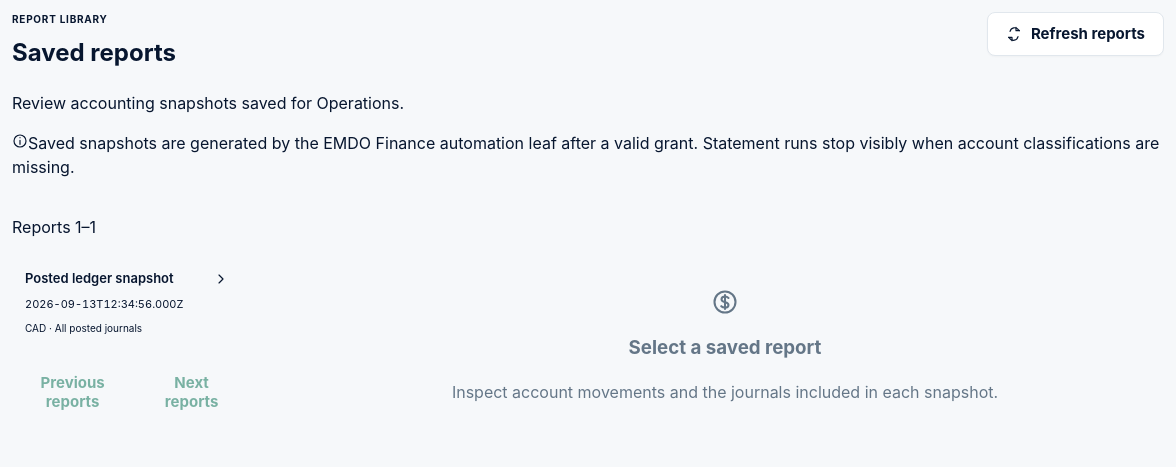
Test case: Saved accounting report library › rejects a report with invalid book provenance or accounting integrity
Click the button "Posted ledger snapshot".
click(127, 302)  # box left=12, top=255, right=242, bottom=350
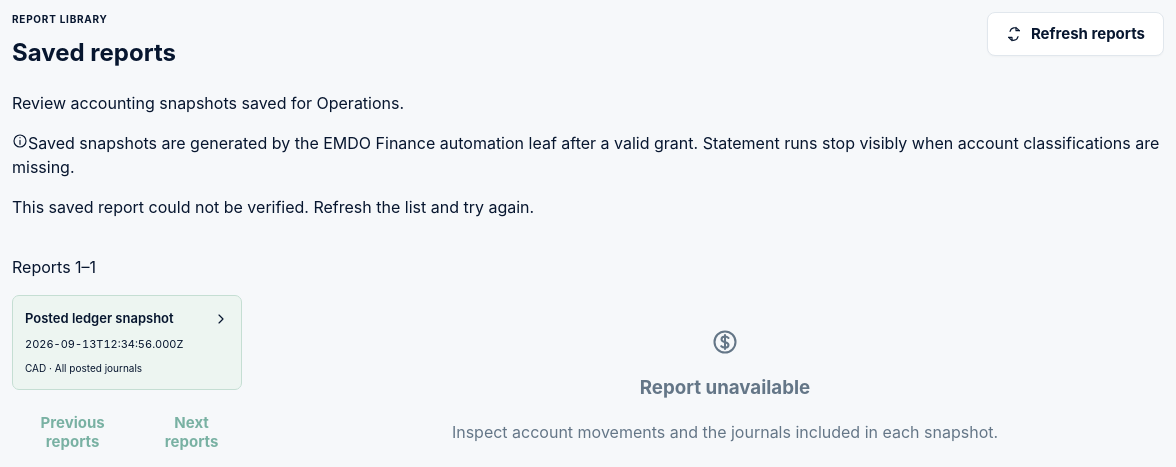
Expected: the message shows "could not be verified", left=12, top=197, right=534, bottom=217
